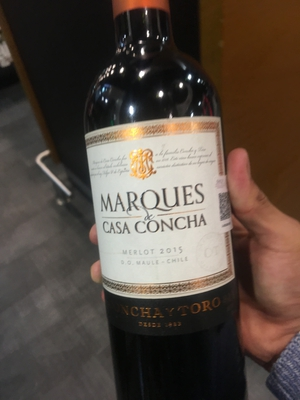marques de casa concha merlot: (82, 14, 255, 378)
